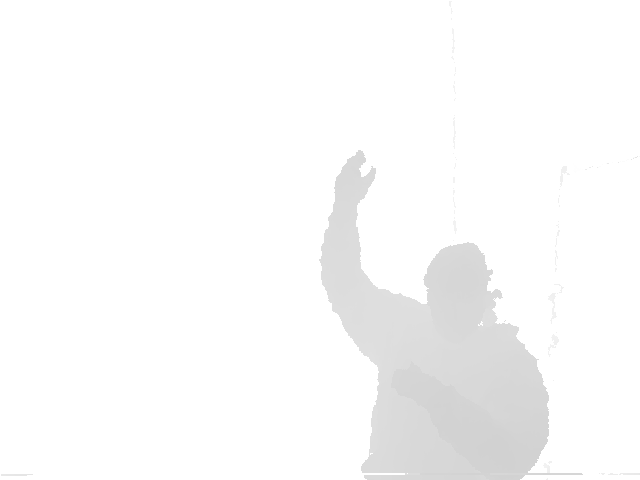hand: (333, 148, 378, 203)
head: (424, 242, 491, 336)
person: (319, 149, 551, 480)
